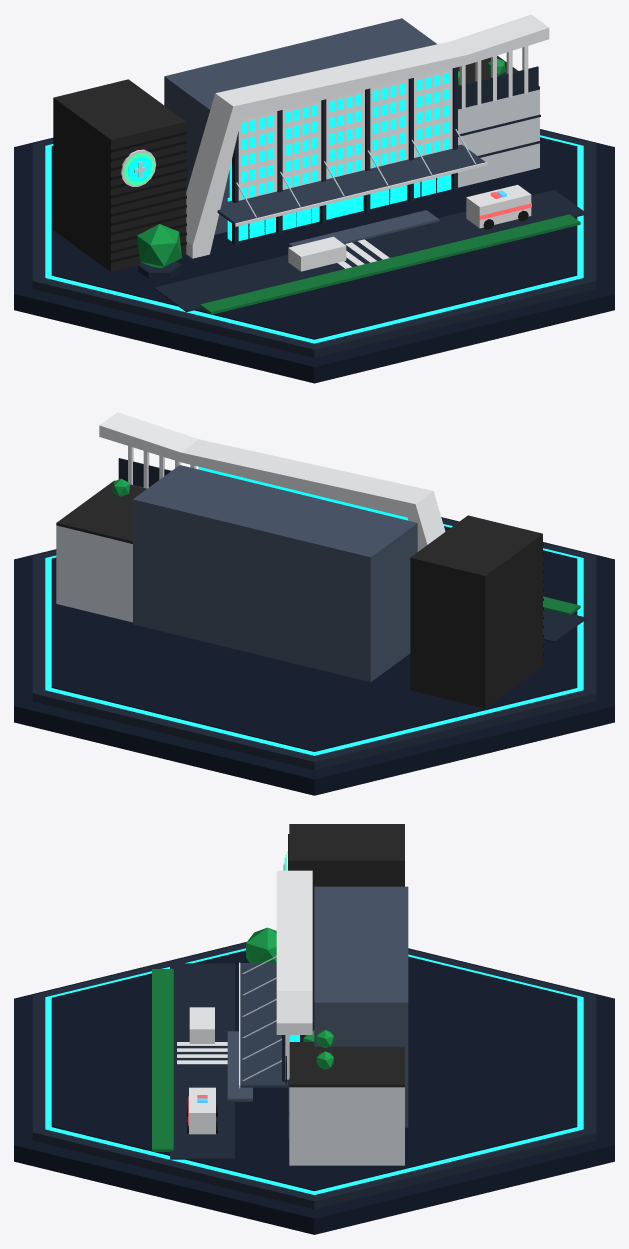
Rendered from uhs_hq.glb.
The picture shows the model from 3 angles, top to bottom: view 1: azimuth 30°, elevation 25°; view 2: azimuth 150°, elevation 25°; view 3: azimuth 270°, elevation 25°; orthographic projection.
Visible parts, largest first — view 1: Cylinder.003, Cylinder, UHS_Left_Louvered_Pylon, UHS_Dynamic_Sweeping_Roof, Cylinder.001, UHS_Main_Core, Cube, UHS_Right_Stone_Podium, UHS_Front_Cantilever_Canopy, Cube.005, Cylinder.002, UHS_GF_Curtain_Wall (+19 smaller); view 2: UHS_Main_Core, Cylinder.003, UHS_Left_Louvered_Pylon, Cylinder, Cylinder.001, UHS_Dynamic_Sweeping_Roof, UHS_Right_Stone_Podium, Cylinder.002, Cube.151, Cube, Cube.042, Cube.157; view 3: Cylinder.003, Cylinder, UHS_Main_Core, Cylinder.001, UHS_Right_Stone_Podium, Cube, UHS_Left_Louvered_Pylon, UHS_Dynamic_Sweeping_Roof, Cylinder.002, UHS_Front_Cantilever_Canopy, Cube.151, Cube.005 (+4 smaller).
Part boxes in pixels (x1,y1,x2,y2): Cylinder.003: (51, 137, 577, 339); Cylinder: (14, 129, 614, 383); UHS_Left_Louvered_Pylon: (53, 79, 186, 272); UHS_Dynamic_Sweeping_Roof: (186, 14, 549, 258); Cylinder.001: (32, 130, 596, 357); UHS_Main_Core: (164, 18, 436, 234); Cube: (154, 190, 586, 312); UHS_Right_Stone_Podium: (458, 89, 539, 187); UHS_Front_Cantilever_Canopy: (217, 144, 485, 225); Cube.005: (200, 214, 580, 314); Cylinder.002: (45, 135, 583, 343); UHS_GF_Curtain_Wall: (227, 174, 451, 241); UHS_Main_Core: (133, 465, 417, 682); Cylinder.003: (51, 526, 577, 751); UHS_Left_Louvered_Pylon: (410, 515, 542, 708); Cylinder: (14, 517, 614, 795); Cylinder.001: (32, 518, 596, 769); UHS_Dynamic_Sweeping_Roof: (99, 412, 445, 551); UHS_Right_Stone_Podium: (56, 525, 132, 622); Cylinder.002: (45, 524, 583, 755); Cube.151: (56, 480, 146, 543); Cube: (543, 609, 586, 642); Cube.042: (198, 466, 408, 520); Cube.157: (118, 458, 171, 487); Cylinder.003: (51, 950, 577, 1190); Cylinder: (14, 942, 614, 1234); UHS_Main_Core: (314, 886, 408, 1127); Cylinder.001: (32, 943, 596, 1209); UHS_Right_Stone_Podium: (289, 1087, 404, 1165); Cube: (170, 963, 234, 1159); UHS_Left_Louvered_Pylon: (289, 824, 404, 993); UHS_Dynamic_Sweeping_Roof: (276, 870, 312, 1034); Cylinder.002: (45, 948, 583, 1194); UHS_Front_Cantilever_Canopy: (240, 963, 287, 1087); Cube.151: (289, 1042, 404, 1087); Cube.005: (152, 969, 173, 1151).
Bounding box in the file's own units: 20 × 5.42 × 17.32.
